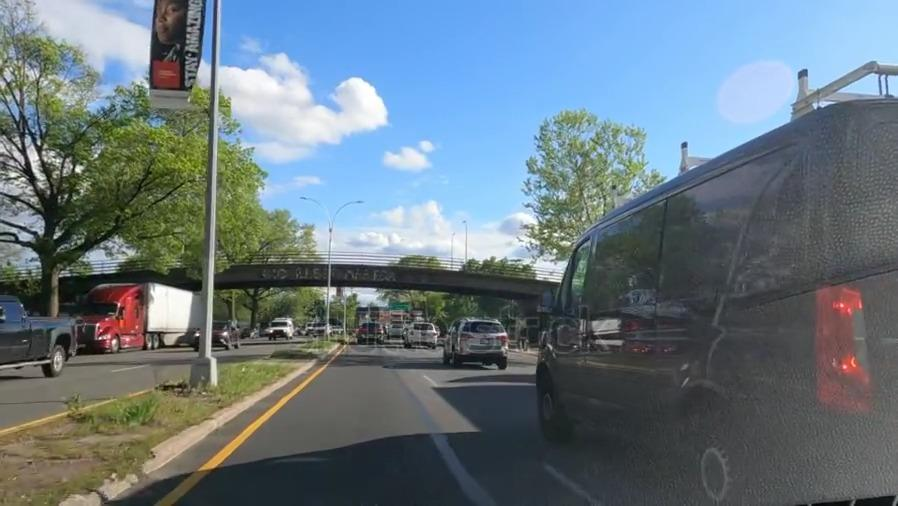car: (0, 309, 80, 382), (441, 318, 506, 365), (401, 321, 438, 349), (358, 322, 383, 345)
truck: (77, 287, 224, 351)
van: (528, 169, 898, 421)
wheel: (676, 407, 746, 506), (538, 372, 563, 434)
